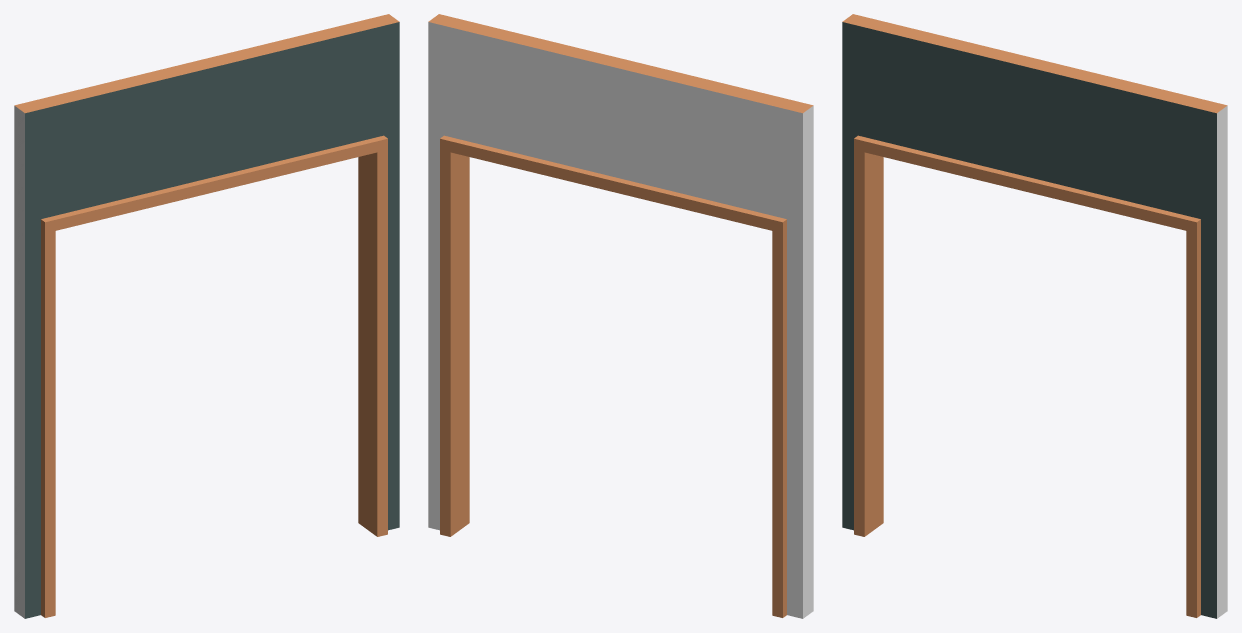
File: wallDoorwayWide.fbx
3 views of the same model, side by side, from view 1: azimuth 30°, elevation 25°; view 2: azimuth 150°, elevation 25°; view 3: azimuth 330°, elevation 25° (orthographic).
Parts seen in each view (by area): view 1: wallDoorwayWide; view 2: wallDoorwayWide; view 3: wallDoorwayWide.
Boxes of the visible parts, x1,y1,x2,y2 form: wallDoorwayWide: (14,14,399,618); wallDoorwayWide: (428,14,813,618); wallDoorwayWide: (842,14,1227,618).
Bounding box in the file's own units: 10 × 12.9 × 0.891.
